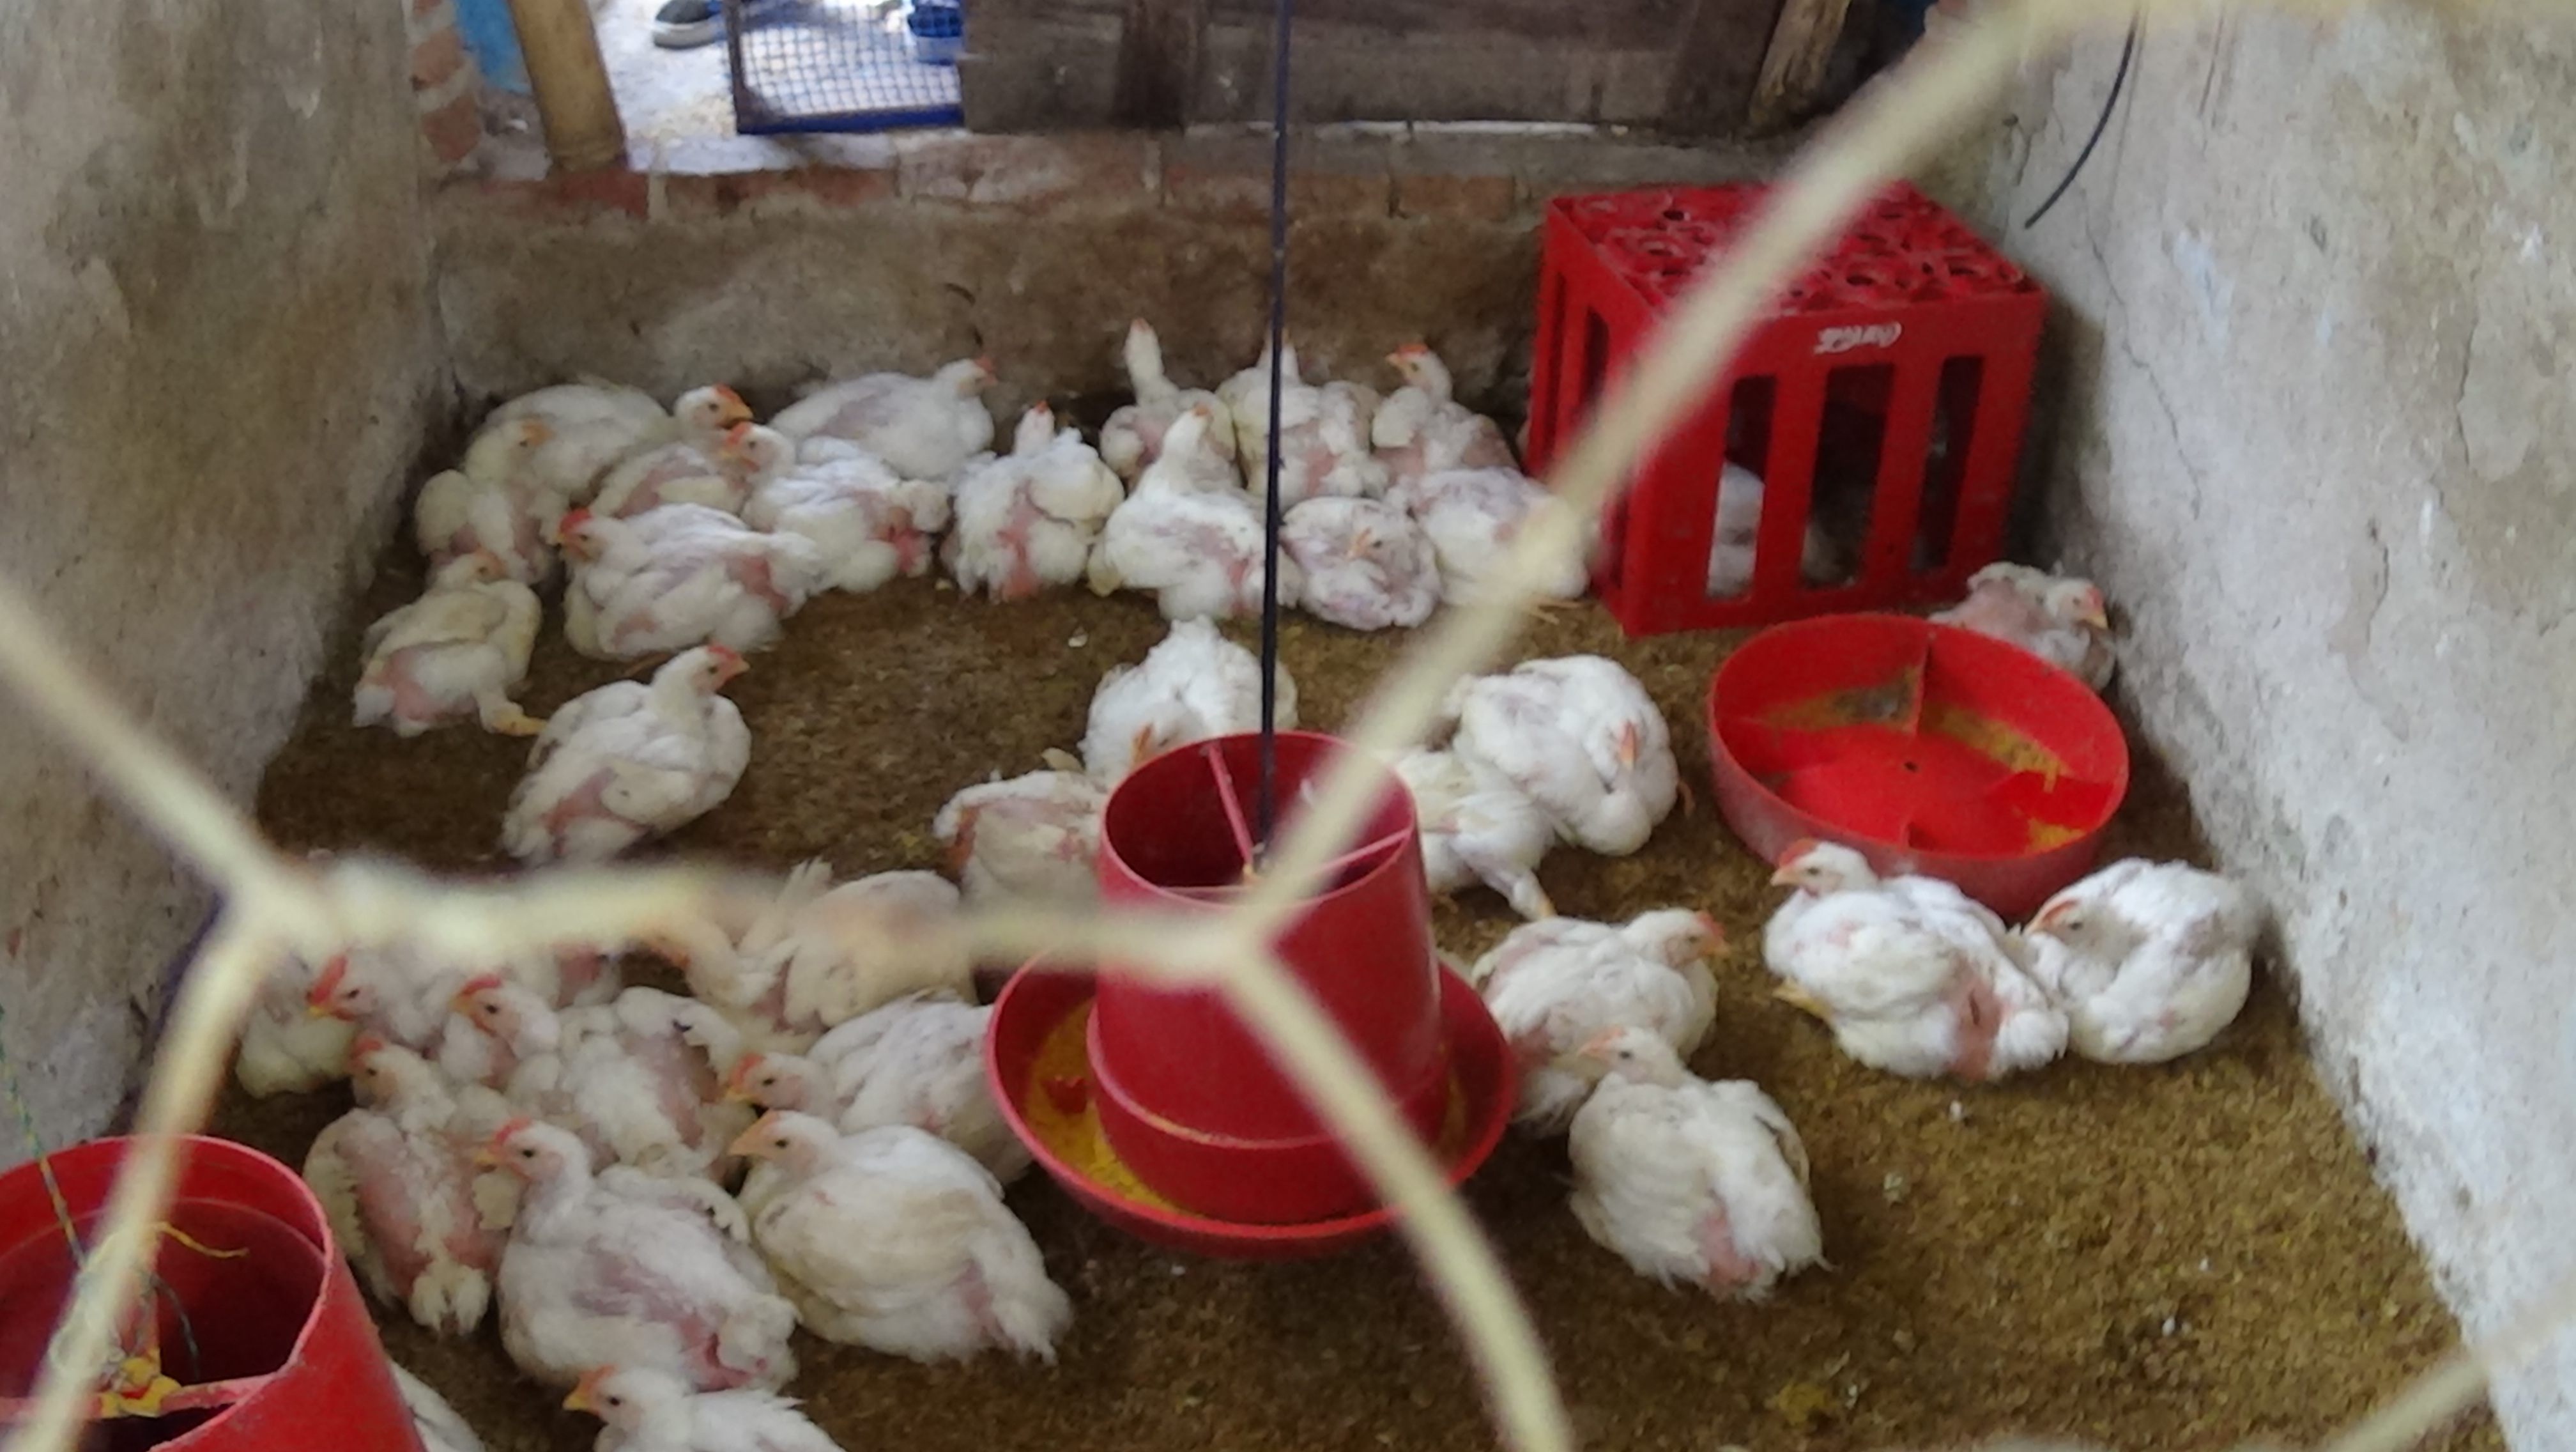Pollos: (1546, 1031, 1854, 1300), (736, 1119, 1062, 1369), (2006, 825, 2321, 1071), (1771, 813, 2022, 1080), (471, 1094, 732, 1349), (502, 637, 784, 871), (299, 988, 490, 1326), (1497, 882, 1748, 1080), (1051, 609, 1316, 786), (428, 963, 718, 1112), (1914, 524, 2135, 715), (352, 547, 557, 735), (1483, 655, 1683, 843), (547, 1328, 849, 1452), (1092, 409, 1283, 600), (1375, 731, 1557, 924), (557, 487, 748, 659), (931, 767, 1148, 907), (713, 1029, 1001, 1131), (1430, 475, 1601, 629), (968, 402, 1109, 584), (630, 908, 830, 1029), (839, 344, 1014, 476), (1217, 317, 1355, 482), (734, 425, 890, 565), (1288, 501, 1433, 636), (432, 402, 552, 552), (1376, 328, 1502, 471), (545, 370, 747, 441), (1086, 305, 1200, 414), (310, 940, 419, 1029)
